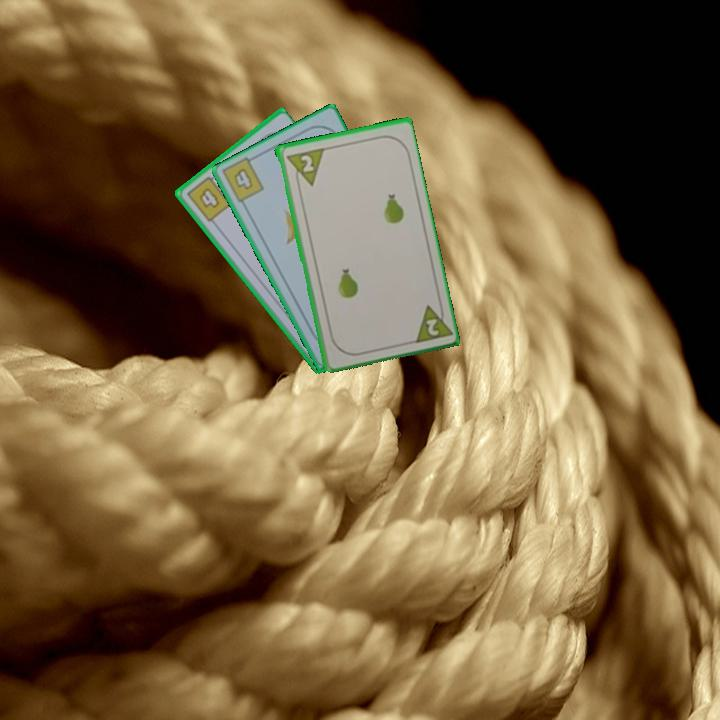2p: (409, 298, 453, 346), (282, 144, 326, 191)
4b: (183, 170, 234, 225), (230, 164, 256, 193)
